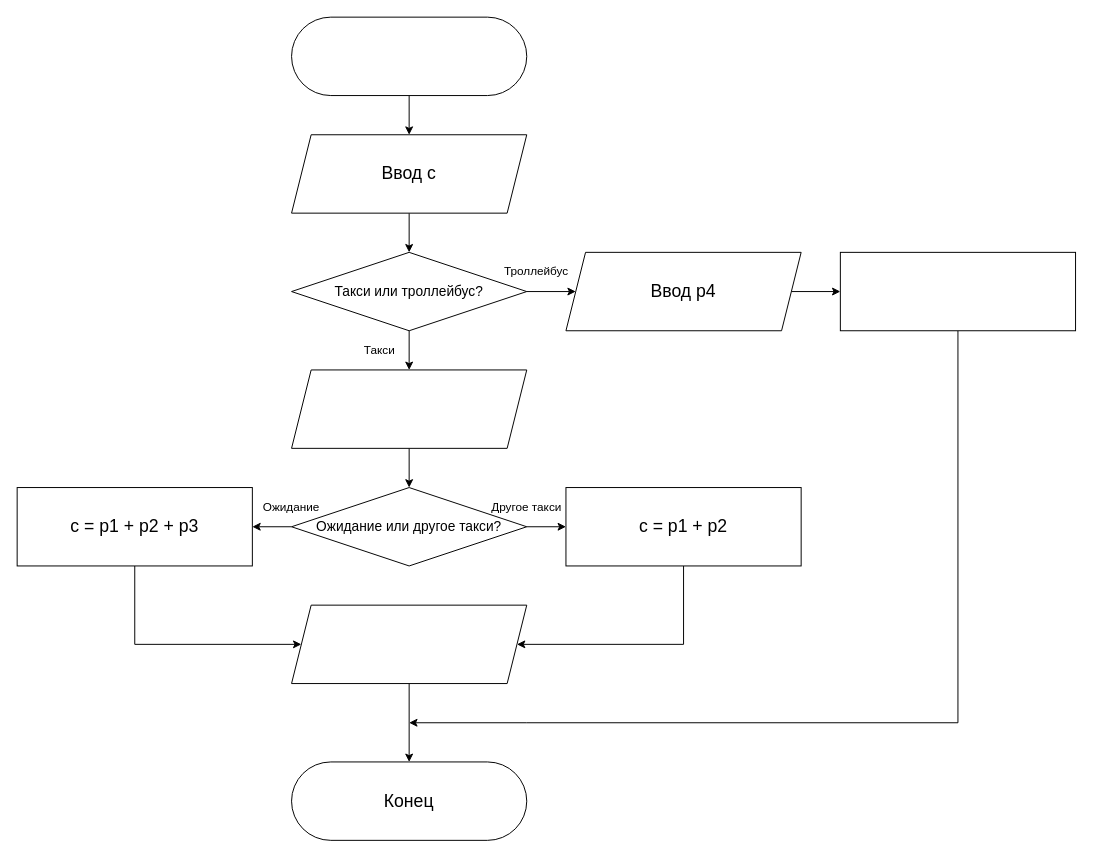
Image size: 1093x858. Some labels were removed from this diagram. The centre of each missing label's shape, as x and y in pixels:
"c = 2 * p4" belongs at point (957, 291).
"Ввод p1, p2, p3" belongs at point (409, 408).
"Вывод c" belongs at point (409, 644).
"Начало" belongs at point (409, 56).
